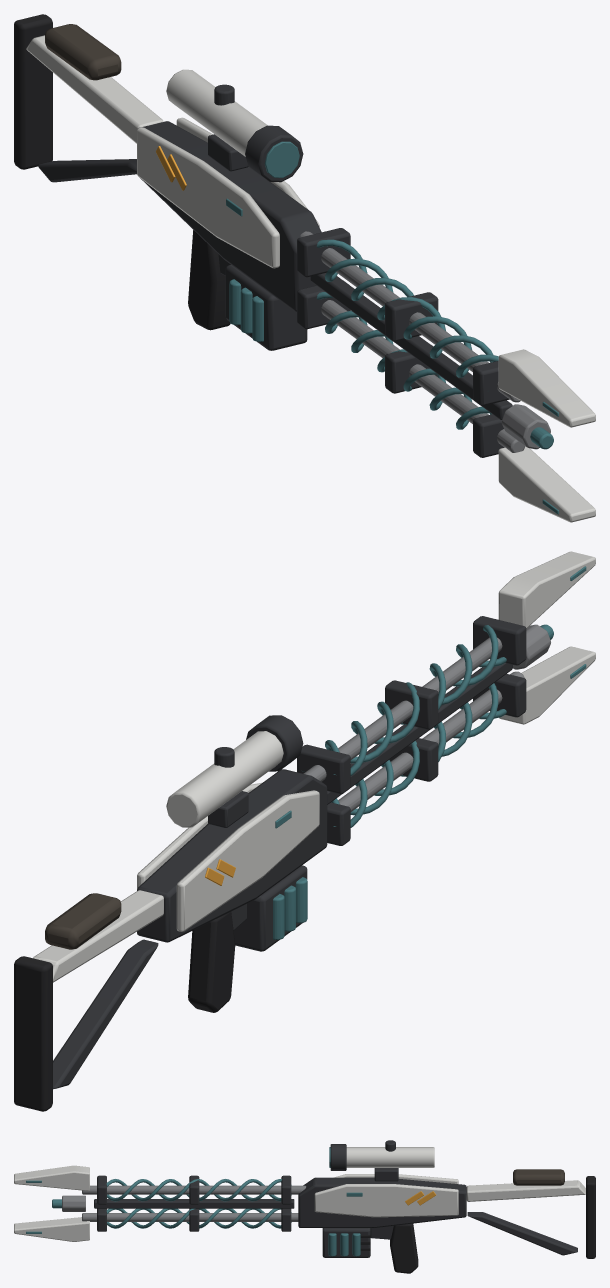
File: Weapon_HelixBeam.fbx
3 views of the same model, one above another, from view 1: azimuth 30°, elevation 25°; view 2: azimuth 150°, elevation 25°; view 3: azimuth 270°, elevation 25° (orthographic). The views are drawn at different scales.
Parts seen in each view (by area): view 1: Body, Spinner_Helix0, Glow, Spinner_Helix1; view 2: Body, Spinner_Helix0, Spinner_Helix1, Glow; view 3: Body, Spinner_Helix0, Spinner_Helix1, Glow.
Part boxes in pixels (left/top/right/bottom): Body: left=14, top=14, right=595, bottom=522; Spinner_Helix0: left=316, top=239, right=498, bottom=391; Glow: left=226, top=141, right=558, bottom=514; Spinner_Helix1: left=316, top=292, right=491, bottom=429; Body: left=14, top=551, right=595, bottom=1111; Spinner_Helix0: left=302, top=625, right=506, bottom=775; Spinner_Helix1: left=331, top=683, right=506, bottom=827; Glow: left=273, top=566, right=586, bottom=939; Body: left=14, top=1140, right=595, bottom=1273; Spinner_Helix0: left=106, top=1179, right=291, bottom=1201; Spinner_Helix1: left=106, top=1208, right=291, bottom=1228; Glow: left=26, top=1147, right=362, bottom=1256.
Size of the model in its own units: 0.0809 by 0.3568 by 1.45.
